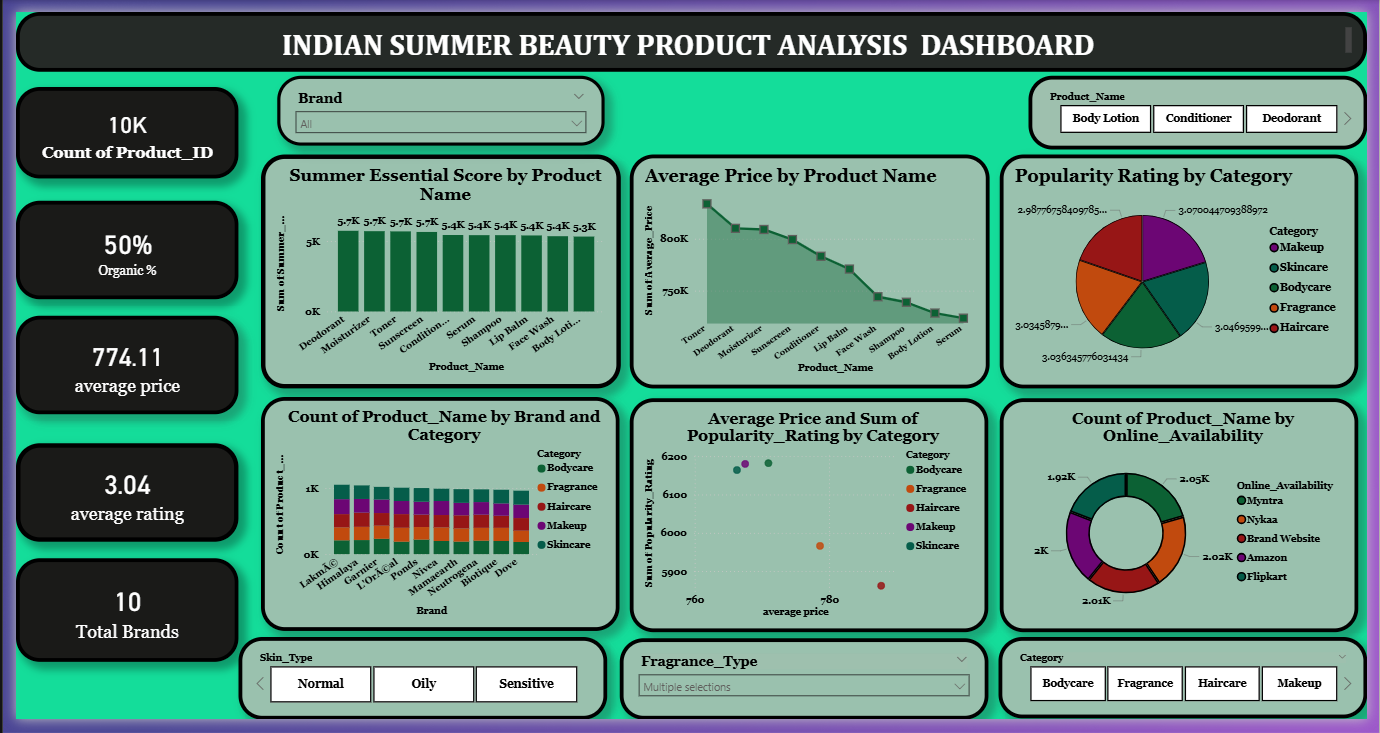

The dashboard page shown, as its layout file describes it:
{"tool":"powerbi","page":{"name":"dashboard ","canvas":[1700,890],"ordinal":3},"visuals":[{"type":"textbox","box":[0,0,1700.3,75.5],"z":0},{"type":"card","fields":{"Values":["CountNonNull(indian_summer_beauty_products.Product_ID)"]},"box":[0,94.4,280,114.8],"z":1000},{"type":"card","fields":{"Values":["indian_summer_beauty_products.Organic %"]},"box":[0,237.5,280,124.3],"z":2000},{"type":"card","fields":{"Values":["indian_summer_beauty_products.average price"]},"box":[0,382.2,280,124.3],"z":3000},{"type":"card","fields":{"Values":["indian_summer_beauty_products.average rating"]},"box":[0,542.7,280,124.3],"z":4000},{"type":"card","fields":{"Values":["indian_summer_beauty_products.Total Brands"]},"box":[0,686.7,280,130],"z":5000},{"type":"clusteredColumnChart","title":"Summer Essential Score by Product Name","fields":{"Category":["indian_summer_beauty_products.Product_Name"],"Y":["Sum(indian_summer_beauty_products.Summer_Essential_Score)"]},"box":[308.3,179.3,453,294.1],"z":6000},{"type":"areaChart","title":"Average Price by Product Name","fields":{"Category":["indian_summer_beauty_products.Product_Name"],"Y":["Sum(indian_summer_beauty_products.Average_Price)"]},"box":[772.3,179.3,453,294.1],"z":7000},{"type":"columnChart","fields":{"Category":["indian_summer_beauty_products.Brand"],"Series":["indian_summer_beauty_products.Category"],"Y":["CountNonNull(indian_summer_beauty_products.Product_Name)"]},"box":[308.3,484.5,451.4,294.1],"z":8000},{"type":"pieChart","title":"Popularity Rating by Category","fields":{"Category":["indian_summer_beauty_products.Category"],"Y":["indian_summer_beauty_products.average rating"]},"box":[1237.9,179.3,451.4,294.1],"z":9000},{"type":"scatterChart","title":"Average Price and Sum of Popularity_Rating by Category","fields":{"X":["indian_summer_beauty_products.average price"],"Series":["indian_summer_beauty_products.Category"],"Y":["Sum(indian_summer_beauty_products.Popularity_Rating)"]},"box":[772.3,486,451.4,294.1],"z":10000},{"type":"donutChart","fields":{"Category":["indian_summer_beauty_products.Online_Availability"],"Y":["CountNonNull(indian_summer_beauty_products.Product_Name)"]},"box":[1237.9,486,451.4,294.1],"z":11000},{"type":"slicer","fields":{"Values":["indian_summer_beauty_products.Brand"]},"box":[328.7,80.2,412.1,88.1],"z":12000},{"type":"slicer","fields":{"Values":["indian_summer_beauty_products.Skin_Type"]},"box":[280,786.5,464,103.8],"z":13000},{"type":"slicer","fields":{"Values":["indian_summer_beauty_products.Fragrance_Type"]},"box":[759.7,788,464,102.2],"z":14000},{"type":"slicer","fields":{"Values":["indian_summer_beauty_products.Product_Name"]},"box":[1274.1,80.2,426.3,92.8],"z":15000},{"type":"slicer","fields":{"Values":["indian_summer_beauty_products.Category"]},"box":[1236.3,786.5,464,102.2],"z":16000}]}

Visuals, with their boxes in screenshot pixels (x1, y1, x2, y2), scaled from the page's 1700x890 canvas onto the 1380x733 screenshot:
textbox: 0/0/1379/62
card - CountNonNull(indian_summer_beauty_products.Product_ID): 0/78/227/172
card - indian_summer_beauty_products.Organic %: 0/196/227/298
card - indian_summer_beauty_products.average price: 0/315/227/417
card - indian_summer_beauty_products.average rating: 0/447/227/549
card - indian_summer_beauty_products.Total Brands: 0/566/227/673
"Summer Essential Score by Product Name" clusteredColumnChart: 250/148/618/390
"Average Price by Product Name" areaChart: 627/148/995/390
columnChart - indian_summer_beauty_products.Brand x indian_summer_beauty_products.Category: 250/399/617/641
"Popularity Rating by Category" pieChart: 1005/148/1371/390
"Average Price and Sum of Popularity_Rating by Category" scatterChart: 627/400/993/642
donutChart - indian_summer_beauty_products.Online_Availability x CountNonNull(indian_summer_beauty_products.Product_Name): 1005/400/1371/642
slicer - indian_summer_beauty_products.Brand: 267/66/601/139
slicer - indian_summer_beauty_products.Skin_Type: 227/648/604/732
slicer - indian_summer_beauty_products.Fragrance_Type: 617/649/993/732
slicer - indian_summer_beauty_products.Product_Name: 1034/66/1379/142
slicer - indian_summer_beauty_products.Category: 1004/648/1379/732
